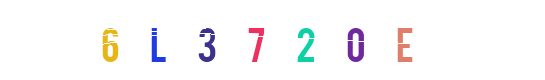2: (250, 0, 330, 80)
3: (217, 0, 297, 80)
6: (69, 0, 149, 80)
7: (232, 0, 312, 80)
E: (334, 0, 414, 80)
L: (116, 0, 196, 80)
O: (266, 0, 346, 80)
